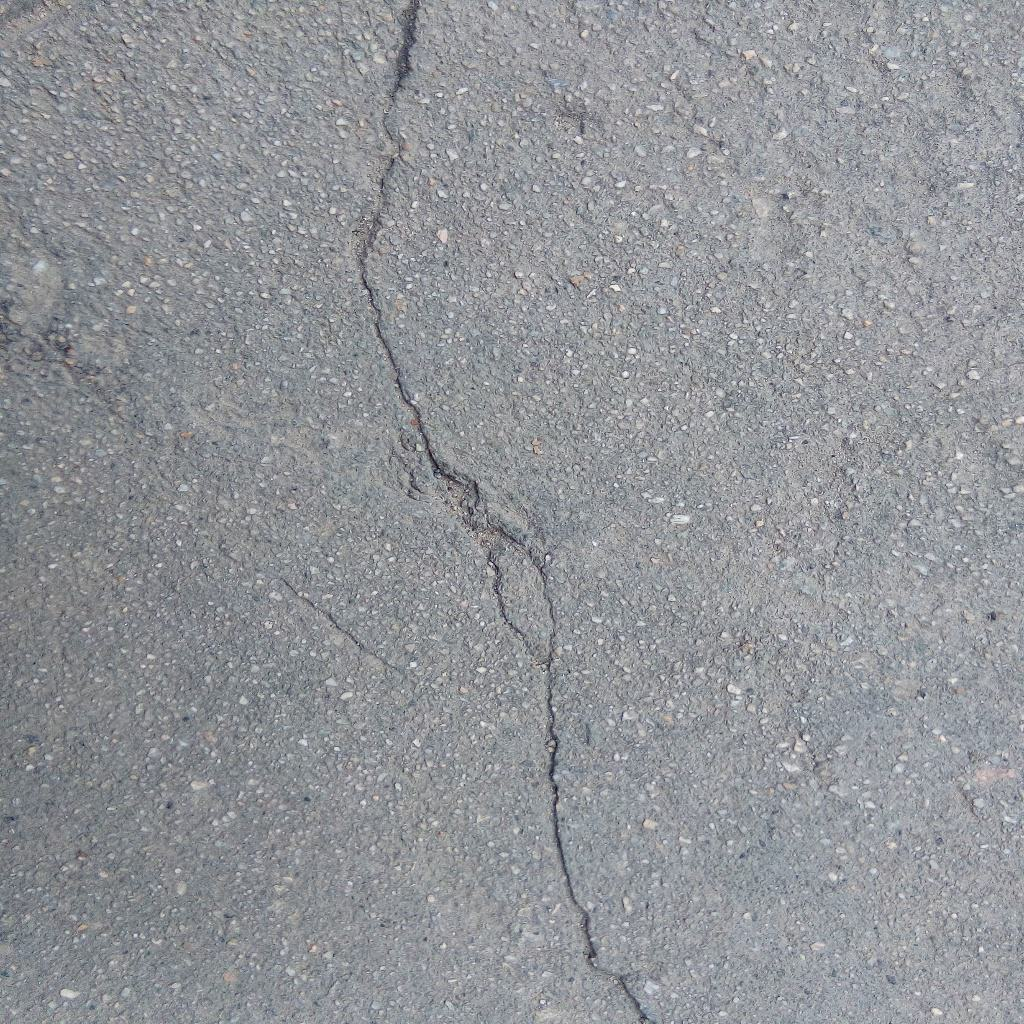Crack: (358, 1, 653, 1024)
